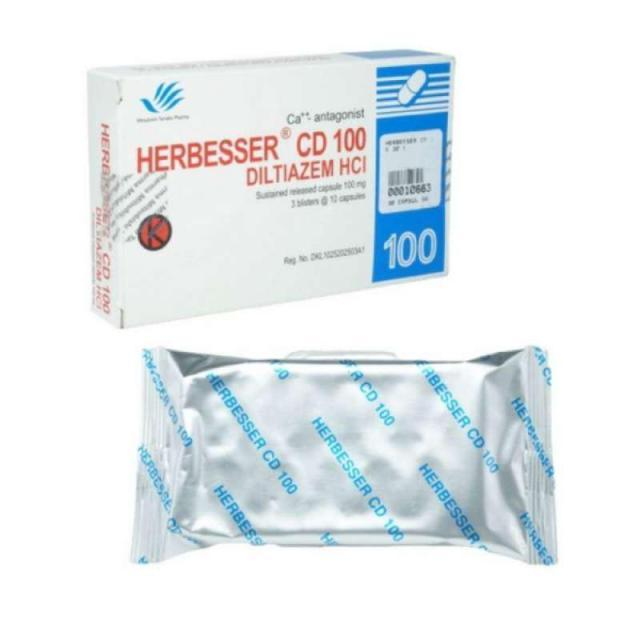drug-name: (130, 124, 375, 174)
